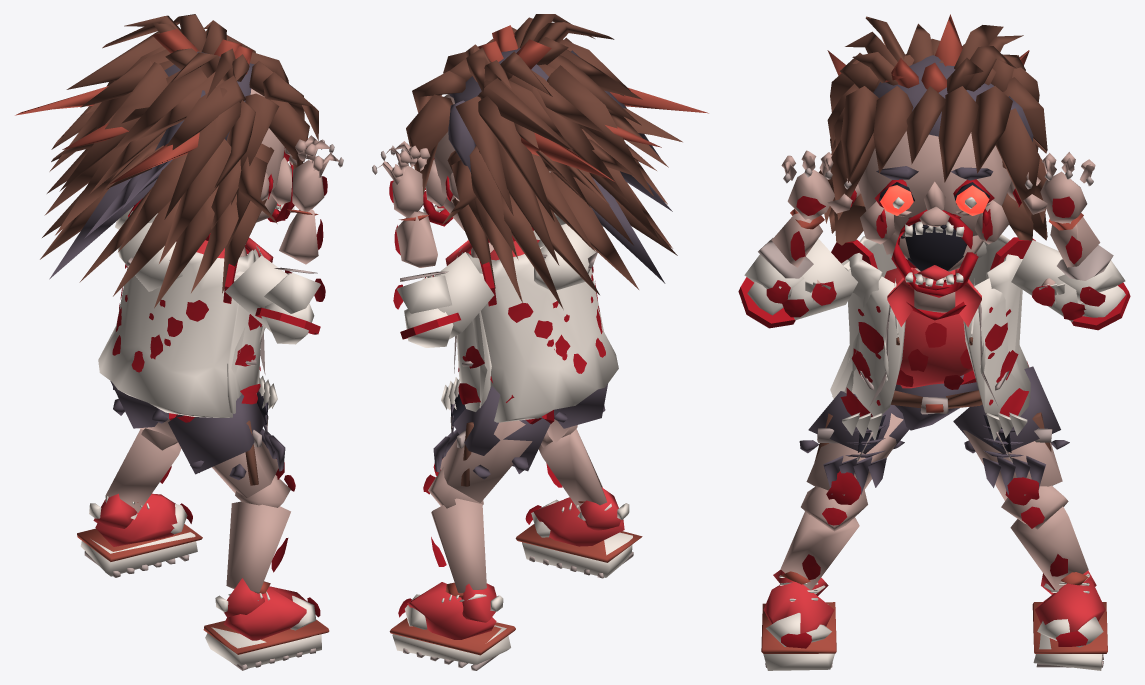
3 views of the same model, side by side, from view 1: azimuth 30°, elevation 25°; view 2: azimuth 150°, elevation 25°; view 3: azimuth 270°, elevation 25° (orthographic). The views are drawn at different scales.
Visible parts, largest first — view 1: head, torso, footR, footL, legR, shinR, foreArmR, shinL, handR, armR, legL, stump_foreArmR (+1 smaller); view 2: head, torso, footL, footR, legL, foreArmL, shinL, shinR, armL, handL, legR, stump_foreArmL; view 3: head, torso, legL, footR, footL, legR, shinL, shinR, foreArmL, foreArmR, hip, armR (+7 smaller).
Boxes of the visible parts, x1,y1,x2,y2 form: head: (15,14,318,308); torso: (98,213,277,417); footR: (203,578,329,670); footL: (77,493,202,577); legR: (168,391,285,497); shinR: (226,475,295,600); foreArmR: (264,209,325,344); shinL: (105,428,181,519); handR: (284,135,343,211); armR: (225,255,292,332); legL: (110,381,175,438); stump_foreArmR: (255,307,320,334); head: (406,14,708,309); torso: (441,213,618,422); footL: (389,582,515,670); footR: (515,487,642,578); legL: (433,386,550,502); foreArmL: (393,211,453,347); shinL: (423,467,486,601); shinR: (538,425,611,520); armL: (422,252,494,339); handL: (372,141,430,217); legR: (547,384,607,443); stump_foreArmL: (400,312,460,339); head: (819,14,1047,297); torso: (830,234,1030,440); legL: (953,366,1069,505); footR: (761,569,836,670); footL: (1032,570,1107,670); legR: (799,391,909,504); shinL: (1001,485,1089,590); shinR: (779,486,867,594); foreArmL: (1048,213,1125,317); foreArmR: (741,209,824,315); hip: (814,375,1052,461); armR: (782,238,857,320).
Bounding box in the file's own units: 0.8182 × 1.8 × 1.04.
